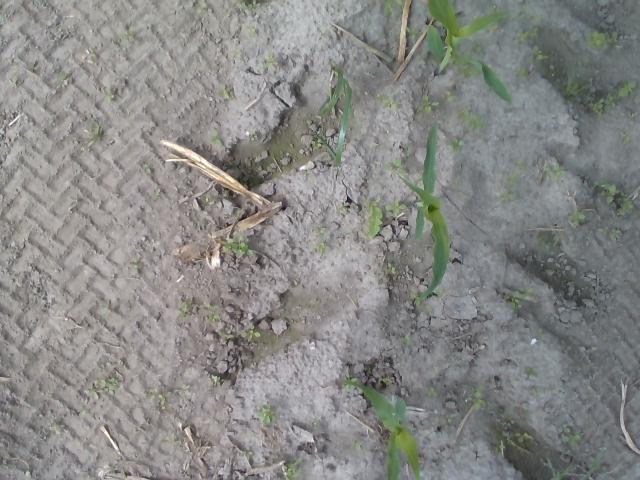Maize: (392, 122, 452, 302), (422, 0, 516, 106), (344, 377, 426, 480), (320, 64, 356, 168)
Weeds: (590, 80, 636, 114), (599, 183, 636, 219), (500, 158, 526, 204), (586, 28, 624, 54), (221, 234, 253, 262), (516, 10, 542, 44), (363, 202, 384, 239), (144, 388, 175, 412), (88, 376, 120, 399), (506, 285, 536, 308), (497, 432, 531, 452), (460, 111, 489, 133), (560, 80, 586, 103), (524, 370, 546, 397), (374, 92, 401, 112), (536, 230, 558, 252), (384, 159, 410, 177), (86, 122, 109, 142), (566, 208, 590, 226), (596, 224, 620, 242), (280, 460, 302, 479), (240, 326, 263, 344), (234, 0, 268, 12), (258, 404, 276, 426), (544, 66, 564, 85), (206, 130, 225, 150), (161, 432, 182, 450), (177, 300, 196, 319), (202, 304, 222, 322), (416, 96, 436, 114), (548, 163, 564, 185), (529, 46, 549, 63), (449, 134, 466, 154), (387, 201, 407, 217), (195, 0, 212, 18), (384, 0, 404, 15), (100, 88, 118, 104), (472, 388, 484, 412), (565, 432, 584, 447), (512, 66, 530, 78), (262, 56, 278, 69), (444, 94, 464, 104), (384, 262, 398, 276), (220, 86, 234, 100), (400, 333, 416, 345), (142, 160, 154, 176), (425, 385, 438, 398), (314, 241, 327, 254), (245, 26, 258, 38), (178, 382, 190, 394), (534, 328, 546, 339), (351, 440, 364, 450), (56, 80, 68, 90), (148, 190, 160, 200), (8, 78, 18, 88), (210, 374, 222, 382)
